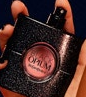ysl_black_opium: (1, 5, 77, 95)
